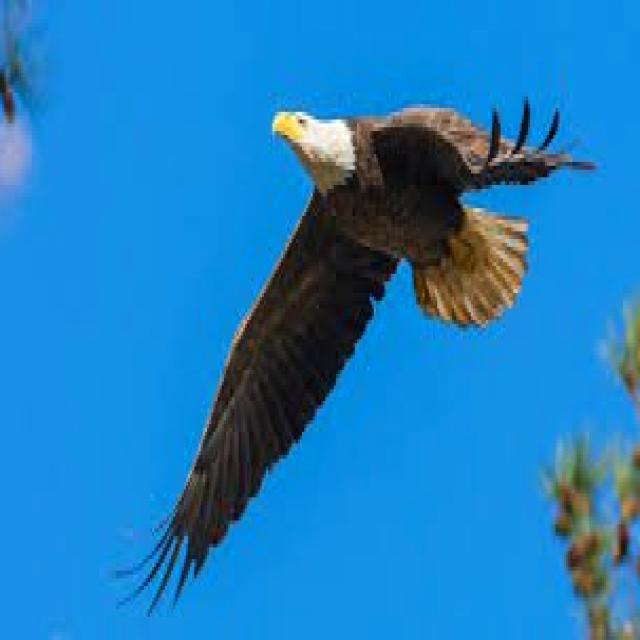eagle: (144, 104, 594, 601)
